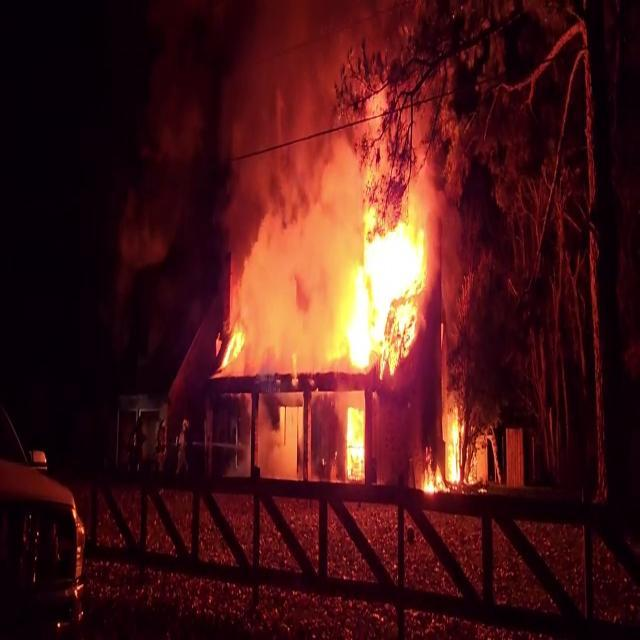Fire: (325, 198, 433, 372), (418, 400, 471, 500), (340, 402, 370, 489), (276, 402, 309, 474)
Smoke: (114, 0, 354, 341)
